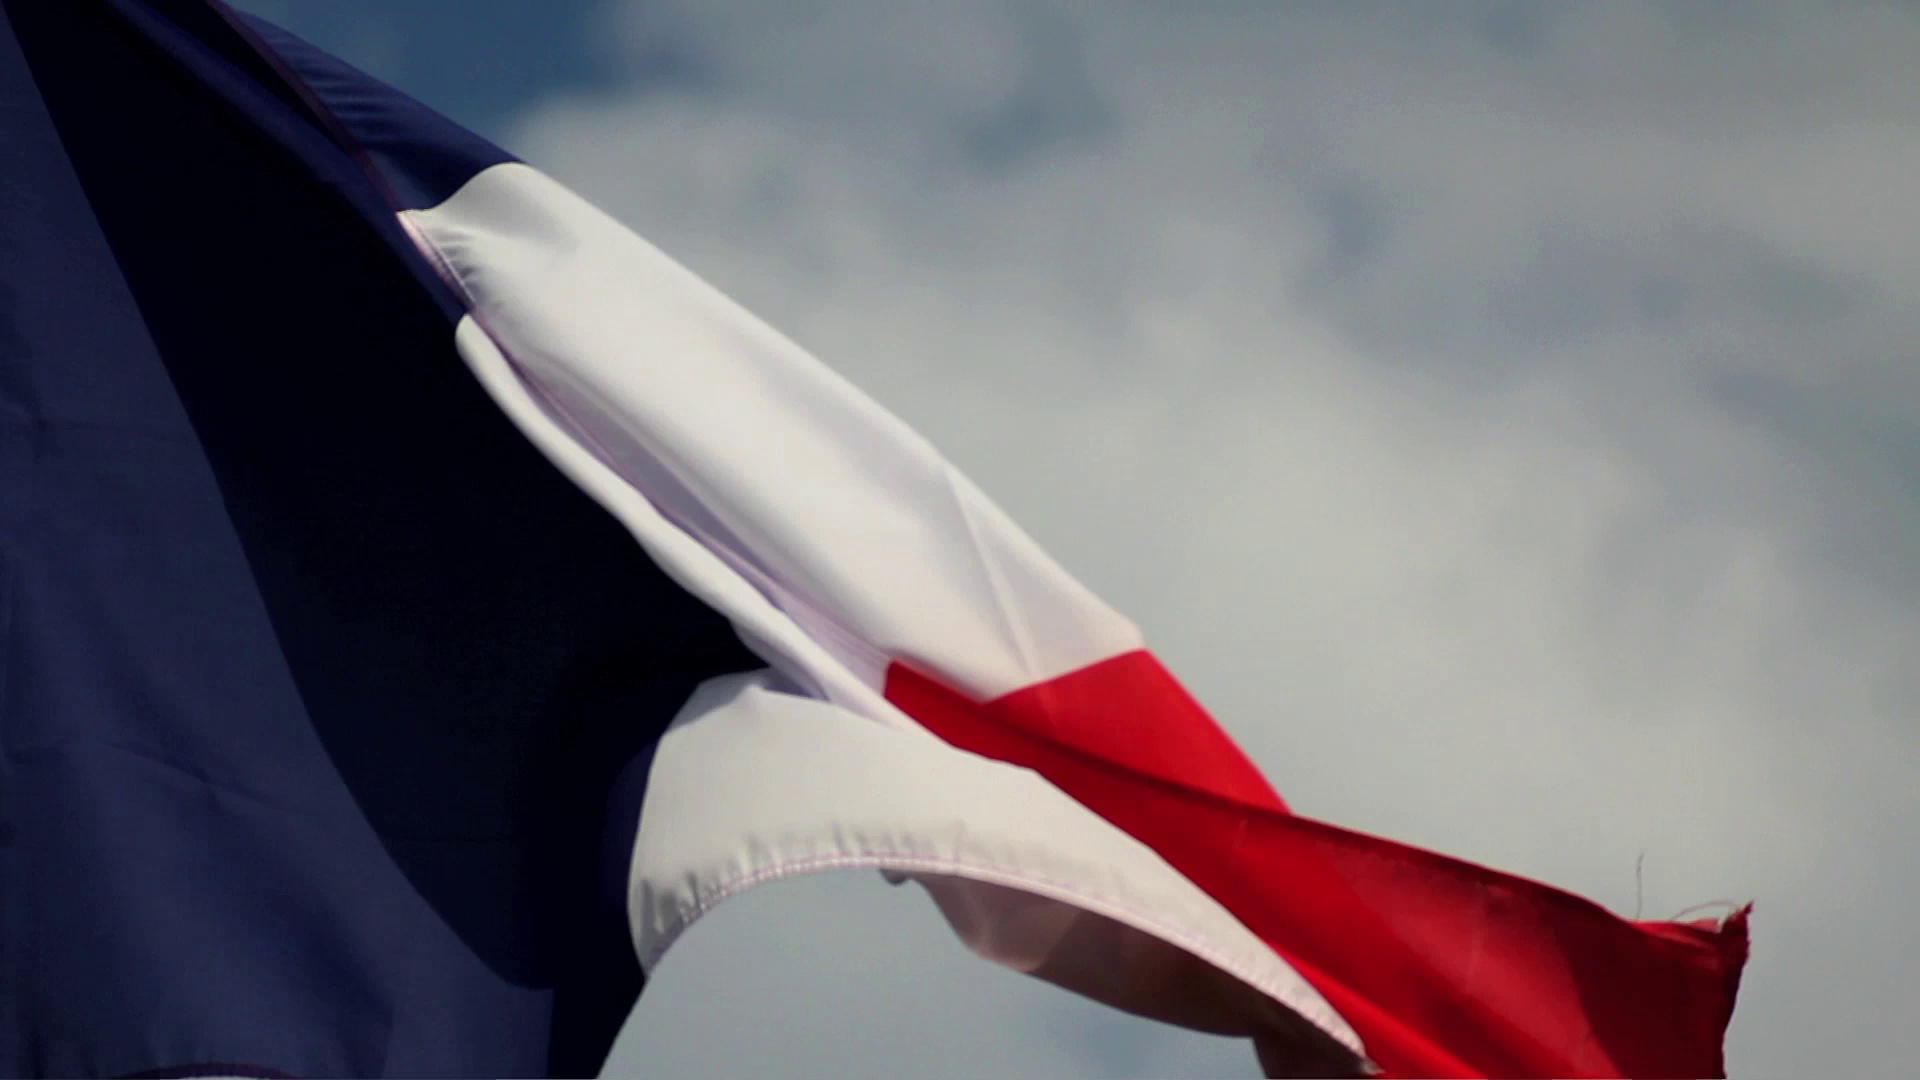French Flag: (1, 1, 1768, 1080)
